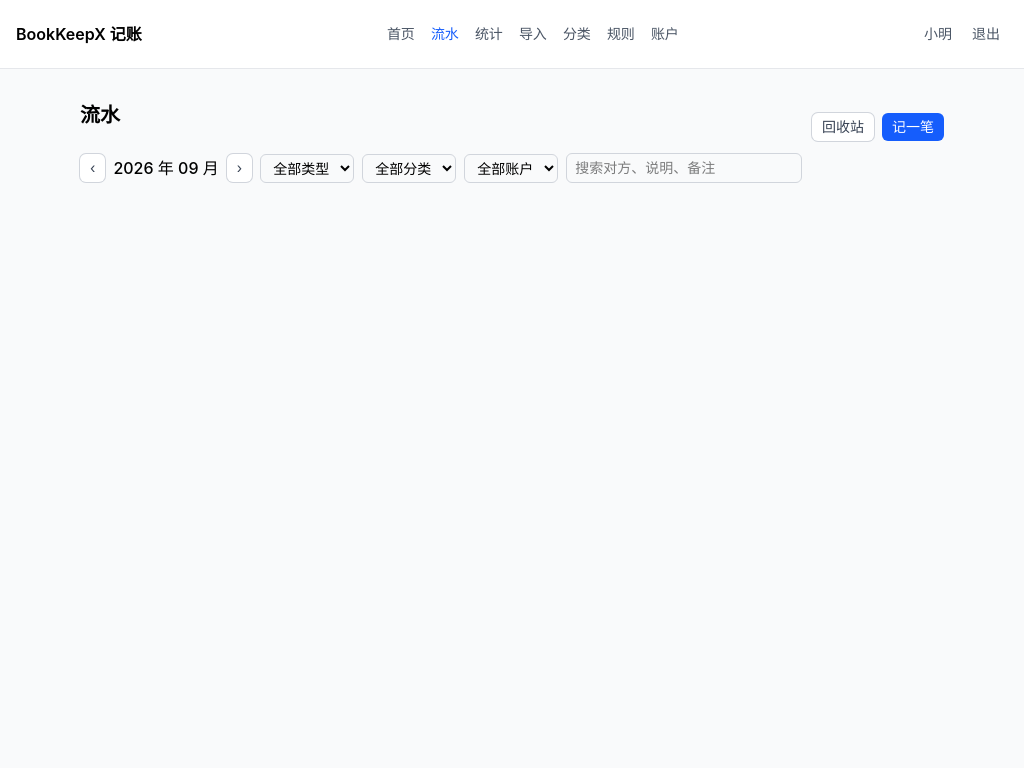
Test case: 流水页 › 反向：金额不合法 → 表单提示错误，不发送请求
Step 1. Click the button "记一笔" → (913, 127), box x1=882 y1=113 x2=944 y2=141
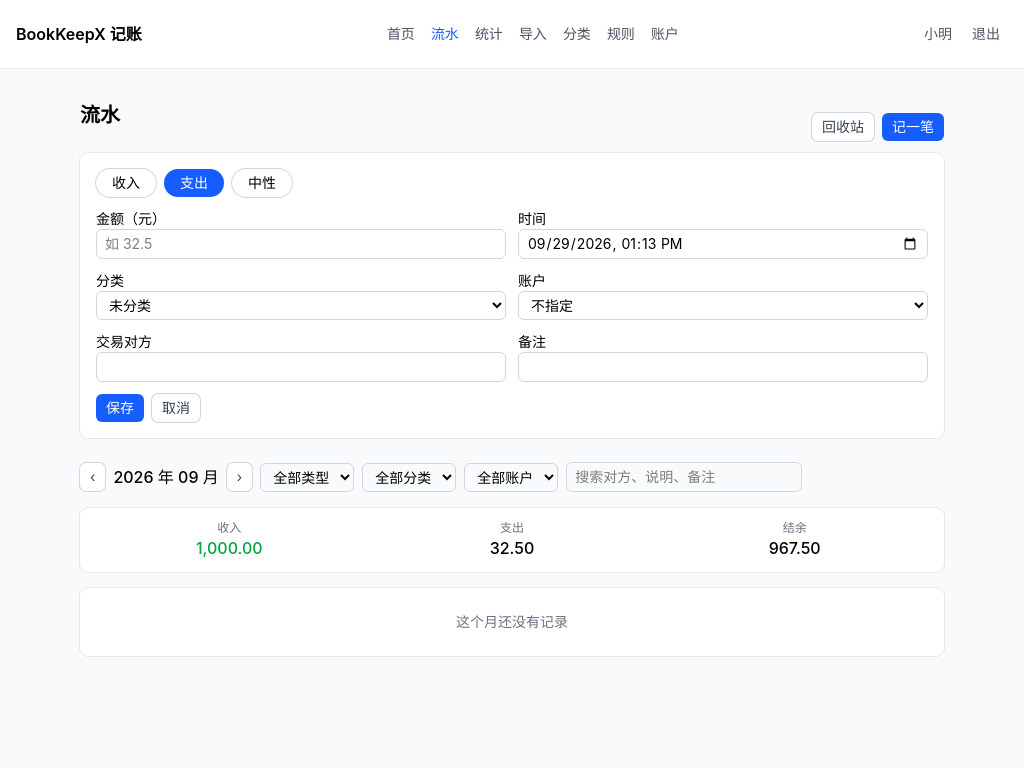
Step 2. Type "0" into the field labelled "金额（元）" → (301, 244), box x1=96 y1=229 x2=506 y2=259
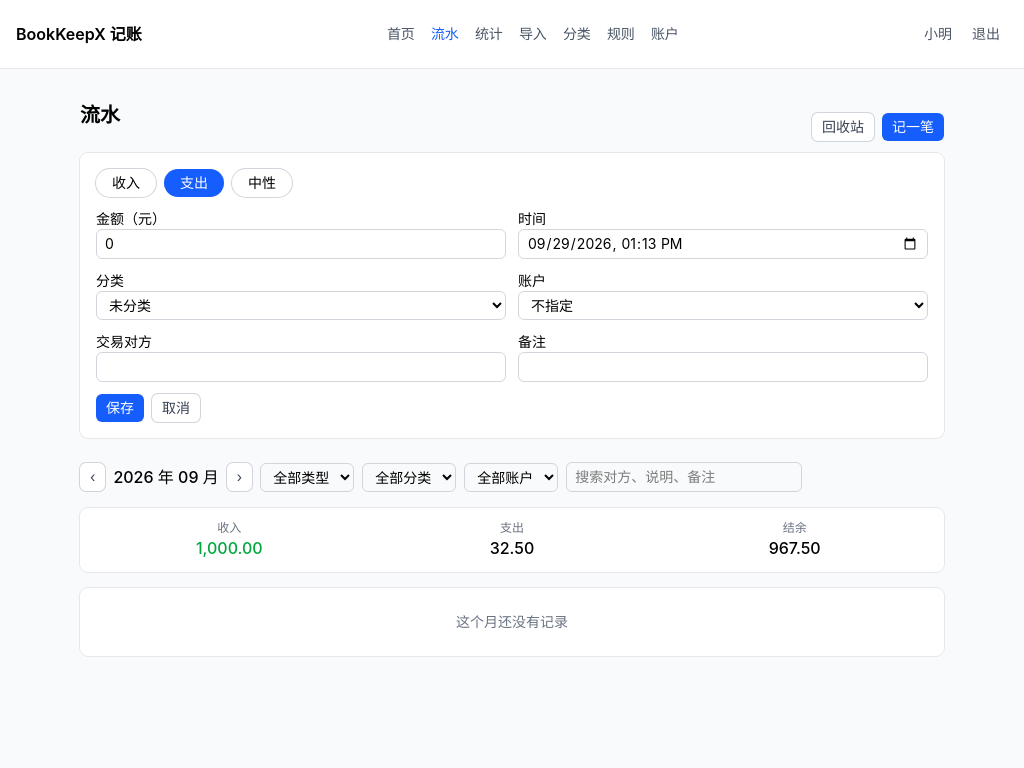
Step 3. Click the button "保存" → (120, 408), box x1=96 y1=394 x2=144 y2=422
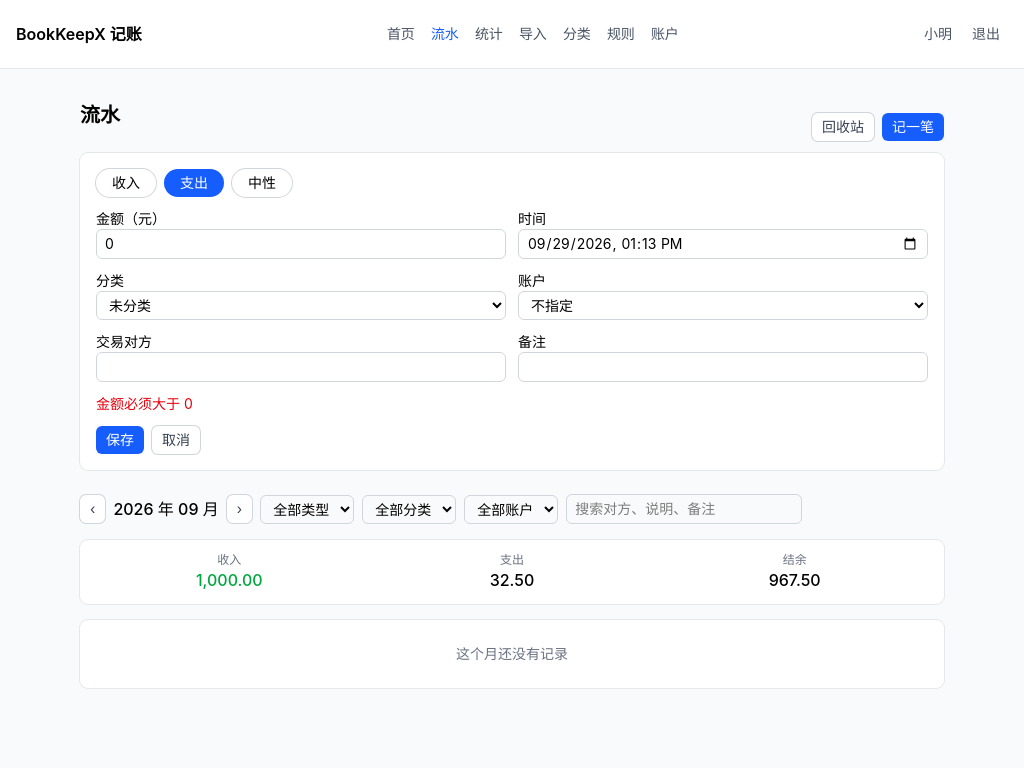
Now the message reads "金额必须大于 0", box x1=96 y1=395 x2=193 y2=412
